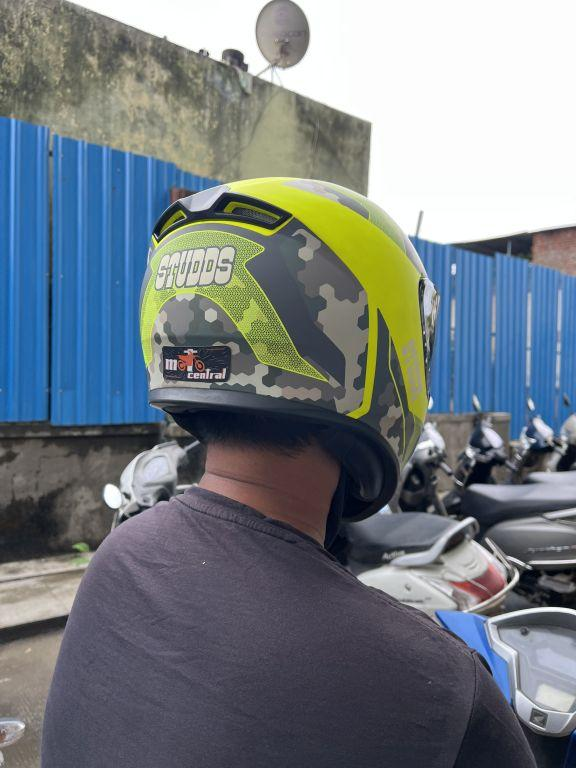helmet: (129, 159, 444, 534)
